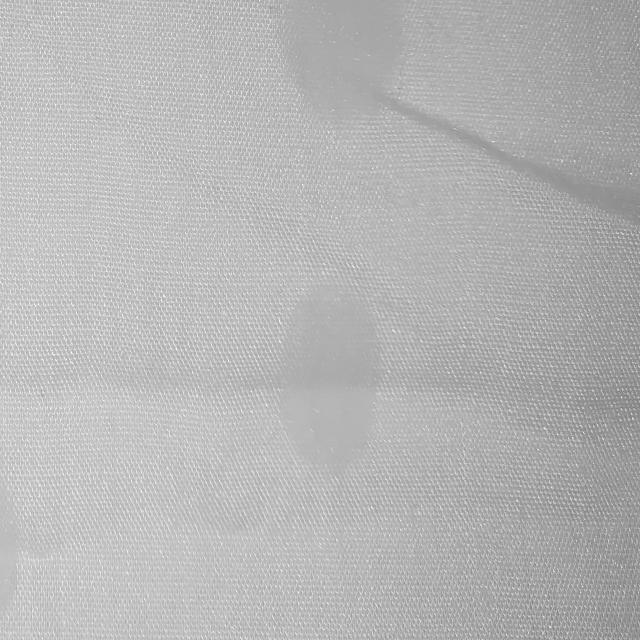stain: (267, 294, 392, 478), (276, 2, 416, 140)
